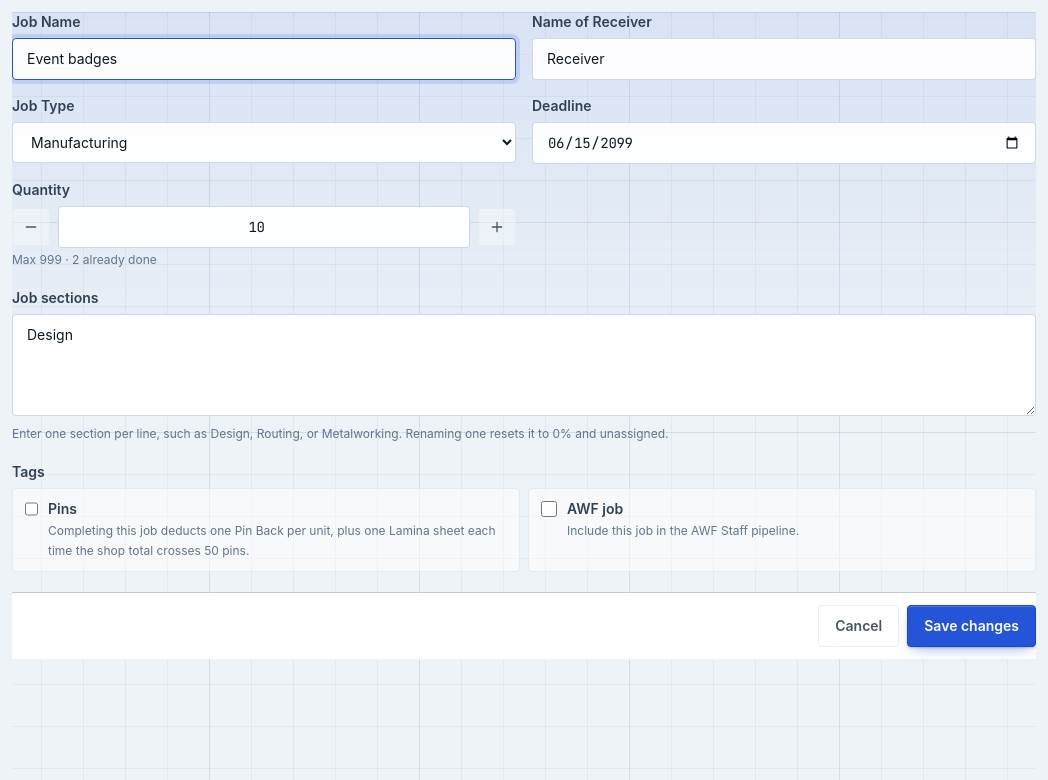
Test: editing an overdue job › shows a rejected save inside the form
The image size is (1048, 780).
Click the button "Save changes" at (972, 626), box [907,605,1036,647]
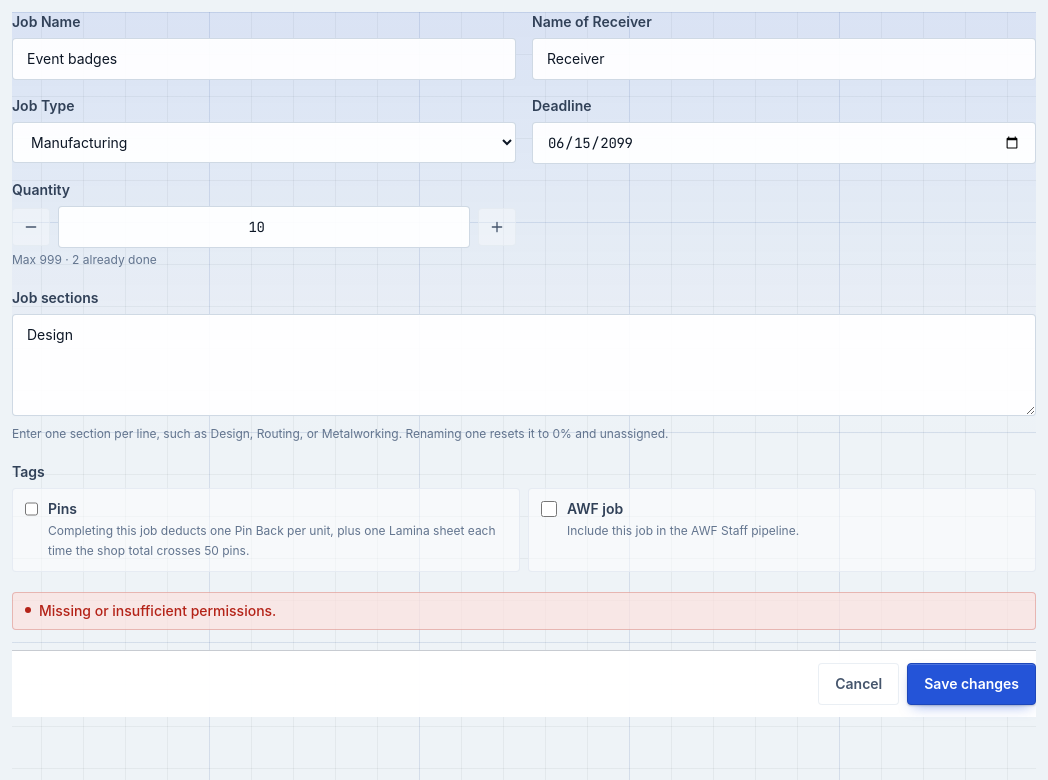
Check: the message reads "Missing or insufficient permissions.", box [39,602,276,619]
